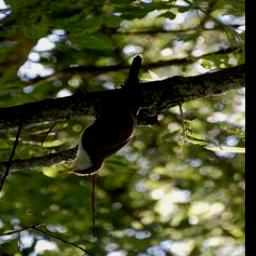Cuckoo: (56, 53, 148, 177)
